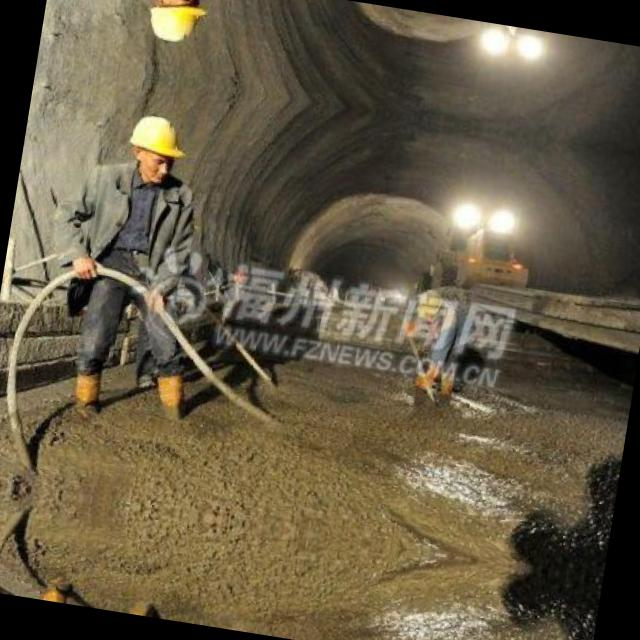helmet: (119, 105, 190, 186), (140, 0, 211, 53)
